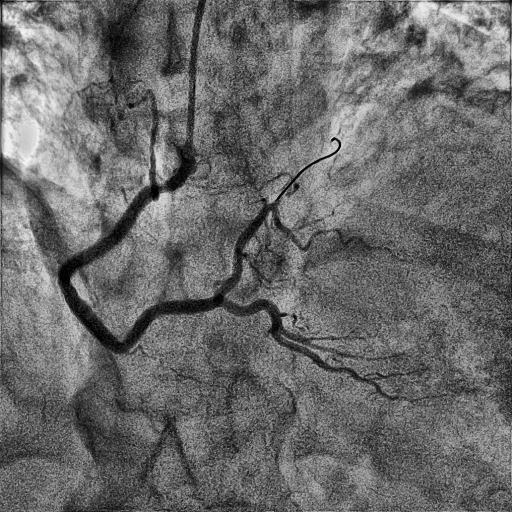pborca: (217, 201, 408, 297)
pda: (220, 297, 444, 402)
rca: (59, 159, 224, 355)
